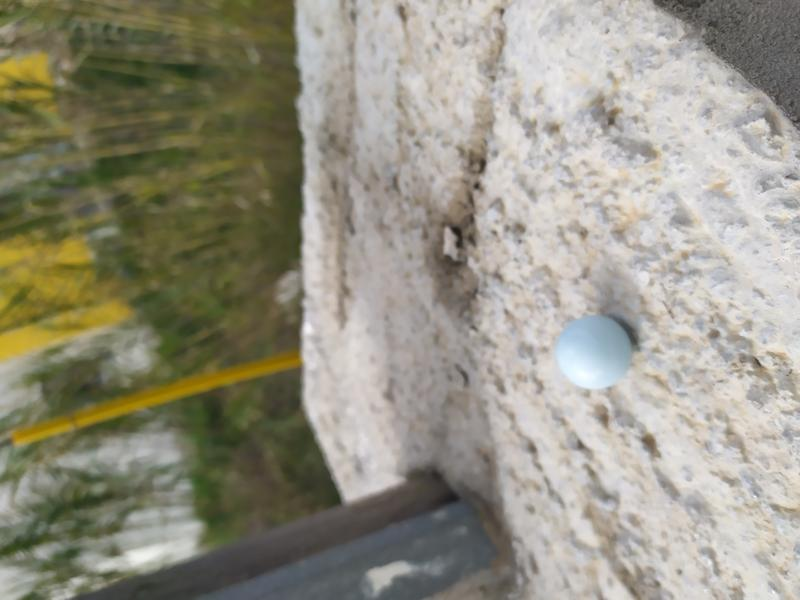Warning: (552, 311, 637, 392)
